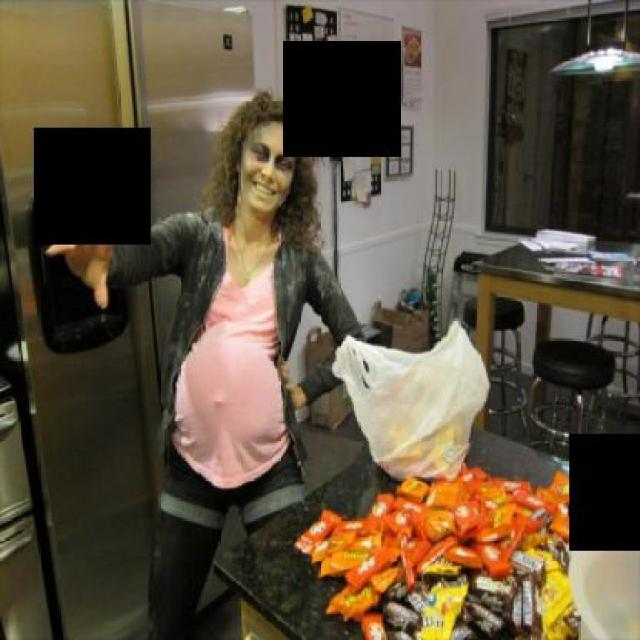plastic bag: (330, 318, 488, 480)
